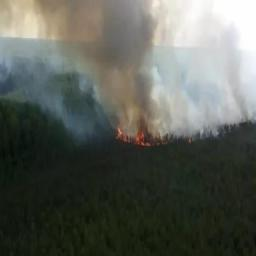Heavy smoke: (66, 1, 172, 119)
Low smoke: (211, 30, 253, 130), (10, 51, 65, 111)
Medium fire: (111, 117, 201, 148)
